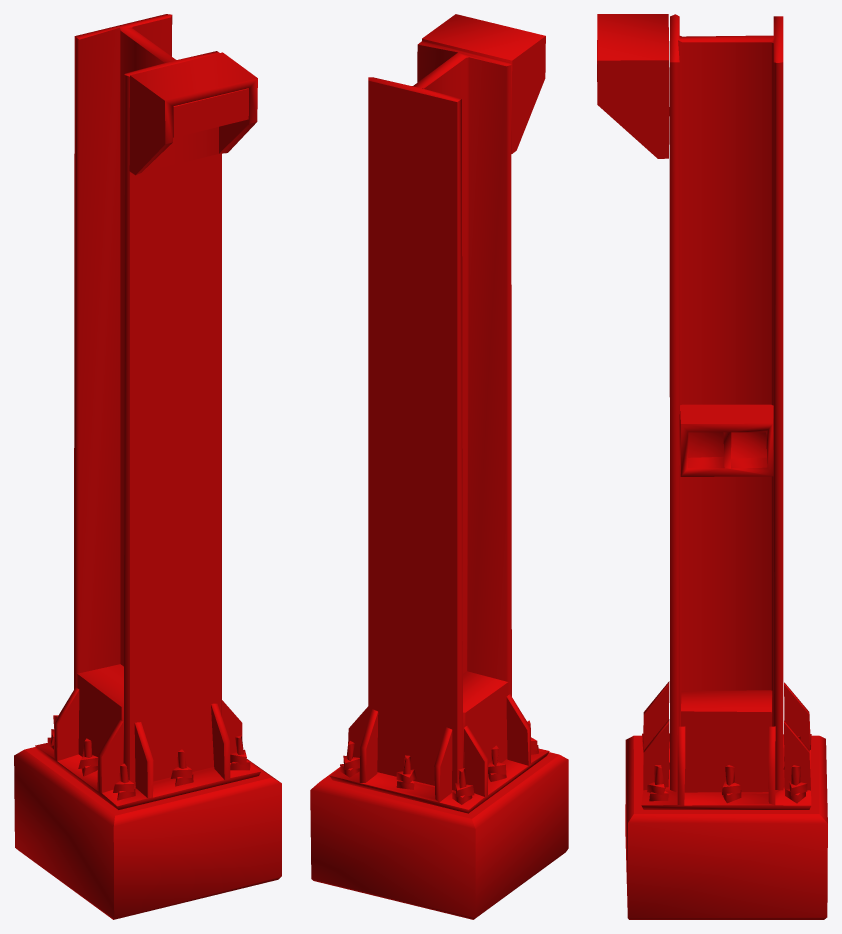
The picture shows the model from 3 angles, left to right: view 1: azimuth 30°, elevation 25°; view 2: azimuth 150°, elevation 25°; view 3: azimuth 270°, elevation 25°; orthographic projection. The views are drawn at different scales.
Parts seen in each view (by area): view 1: Mesh; view 2: Mesh; view 3: Mesh.
Boxes of the visible parts, box(x1,y1,x2,y2) form: Mesh: box(14, 14, 281, 919); Mesh: box(310, 14, 568, 919); Mesh: box(597, 14, 827, 919).
Size of the model in its own units: 1.95 by 8.96 by 2.23.
